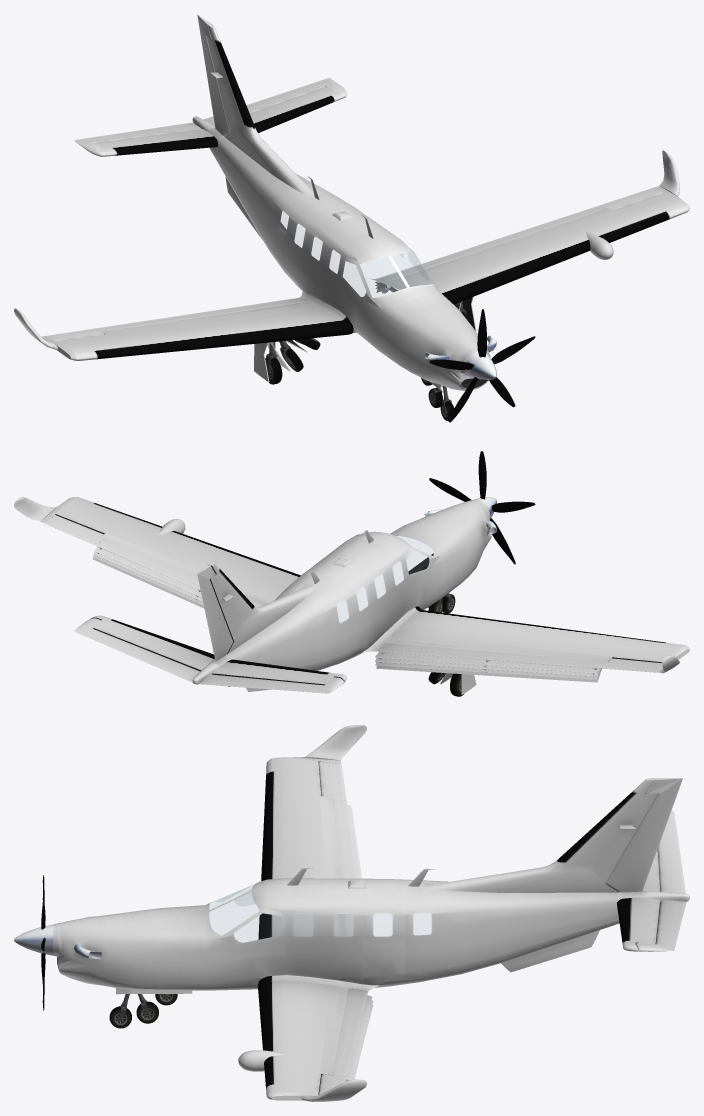
File: Full_White.gltf
3 views of the same model, one above another, from view 1: azimuth 30°, elevation 25°; view 2: azimuth 150°, elevation 25°; view 3: azimuth 270°, elevation 25° (orthographic). The views are drawn at different scales.
Visible parts, largest first — view 1: Exterior, Pose_flaps_0, Pose_gear_3, Pose_gear_2; view 2: Exterior, Pose_flaps_0, Pose_flaps_1, Pose_flaps_2, Pose_flaps_4, Pose_flaps_3, Pose_gear_3; view 3: Exterior, Pose_flaps_0, Pose_flaps_1.
Boxes of the visible parts, box(x1,y1,x2,y2) form: Exterior: box(14, 14, 689, 422); Pose_flaps_0: box(96, 206, 604, 331); Pose_gear_3: box(254, 297, 476, 421); Pose_gear_2: box(267, 301, 462, 407); Exterior: box(14, 451, 689, 693); Pose_flaps_0: box(96, 539, 604, 669); Pose_flaps_1: box(94, 547, 599, 674); Pose_flaps_2: box(93, 551, 599, 677); Pose_flaps_4: box(92, 546, 601, 682); Pose_flaps_3: box(93, 554, 601, 679); Pose_gear_3: box(442, 593, 476, 696); Exterior: box(14, 725, 689, 1101); Pose_flaps_0: box(332, 799, 367, 1075); Pose_flaps_1: box(346, 804, 372, 1080).
Size of the model in its own units: 13.32 by 4.35 by 10.68.
Materials: 3 (3 with a texture image).
